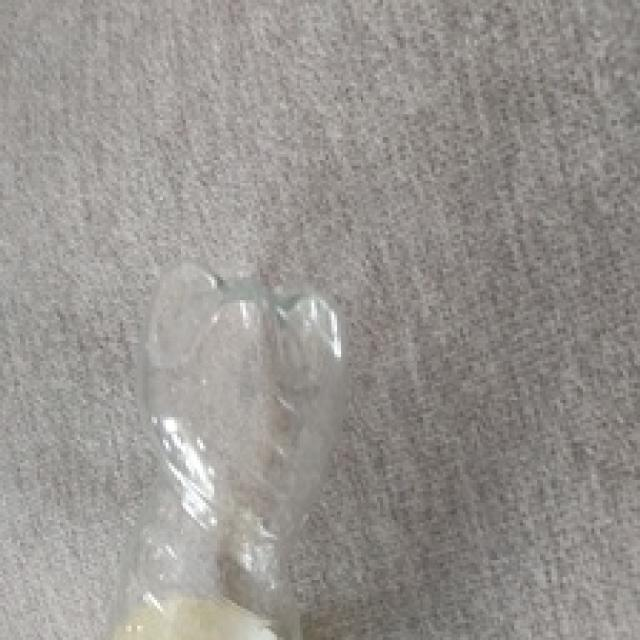Plastic: (102, 261, 352, 640)
